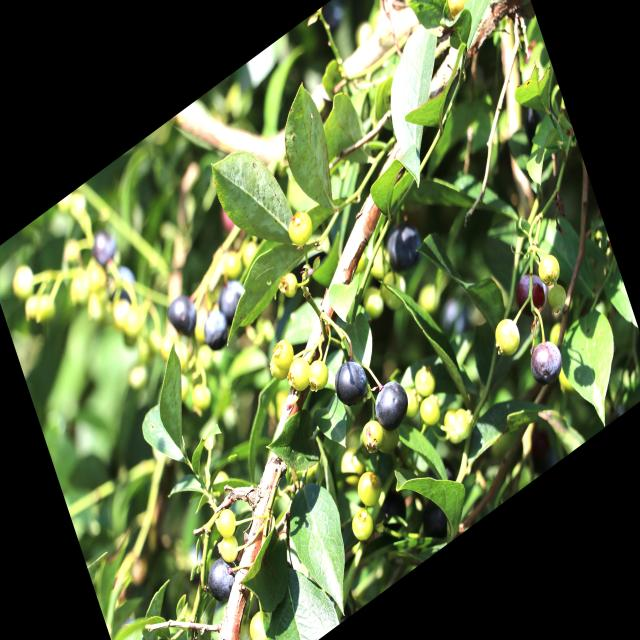blueberry: (366, 368, 415, 438), (326, 351, 373, 421), (521, 328, 571, 393), (383, 215, 429, 281), (508, 262, 552, 326), (161, 287, 203, 351), (200, 546, 242, 610), (195, 298, 234, 362), (213, 271, 250, 331)
blueberry-unripe: (491, 312, 524, 362), (284, 205, 317, 253), (282, 350, 314, 398), (355, 465, 385, 511), (348, 504, 377, 546), (533, 247, 562, 288), (304, 352, 332, 394), (359, 415, 387, 456), (271, 334, 298, 376), (411, 361, 438, 402), (417, 391, 443, 430), (214, 503, 239, 543), (244, 607, 273, 640), (544, 276, 569, 314), (189, 378, 214, 416), (278, 267, 302, 305), (217, 530, 242, 566), (441, 0, 474, 24), (266, 351, 288, 386)
